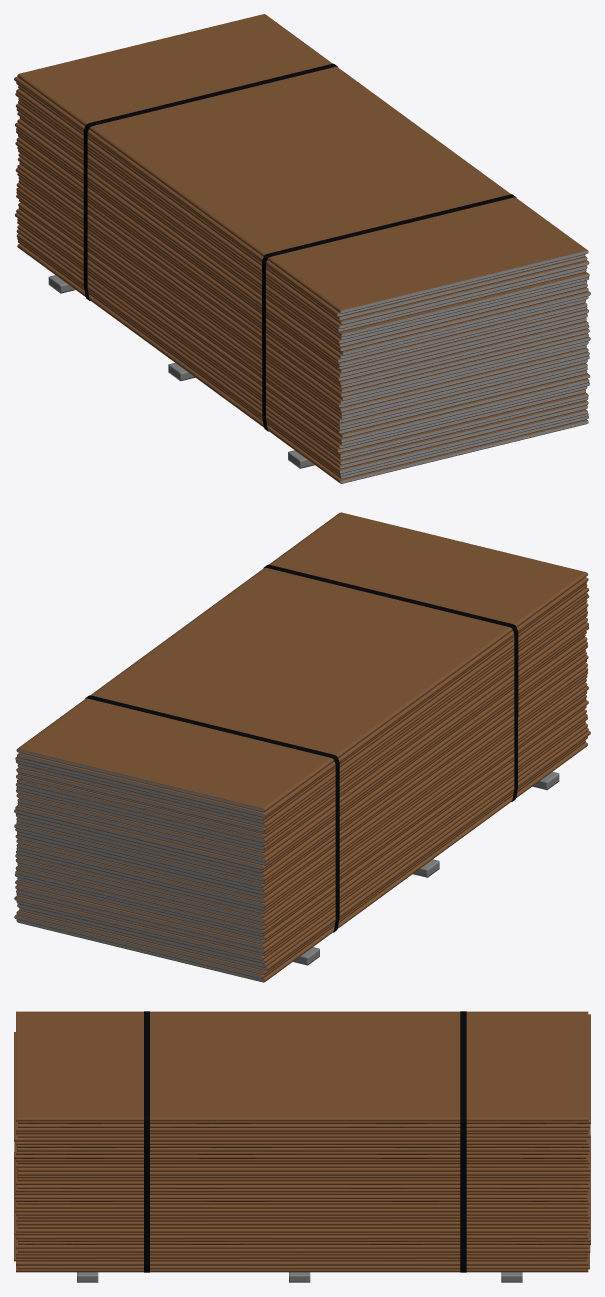
Rendered from DrywallOnPalletCarton.FBX.
The picture shows the model from 3 angles, top to bottom: view 1: azimuth 30°, elevation 25°; view 2: azimuth 150°, elevation 25°; view 3: azimuth 270°, elevation 25°; orthographic projection. The views are drawn at different scales.
Visible parts, largest first — view 1: DWall057, Rope12, DWall023, DWall12, DWall015, DWall017, DWall053, DWall040, DWall035, DWall027, DWall044, DWall049 (+36 smaller); view 2: DWall057, Rope12, DWall056, DWall044, DWall021, DWall045, DWall033, DWall049, DWall053, DWall028, DWall032, DWall040 (+36 smaller); view 3: DWall057, Rope12, DWall051, DWall042, DWall026, DWall013, DWall024, DWall014, DWall018, DWall030, DWall022, DWall031 (+36 smaller).
Part boxes in pixels (x1,y1,x2,y2): DWall057: [17, 14, 588, 313]; Rope12: [83, 63, 516, 431]; DWall023: [18, 202, 589, 442]; DWall12: [17, 244, 588, 483]; DWall015: [16, 233, 587, 473]; DWall017: [17, 225, 588, 464]; DWall053: [16, 89, 587, 328]; DWall040: [16, 137, 587, 377]; DWall035: [17, 157, 588, 397]; DWall027: [16, 187, 587, 427]; DWall044: [15, 122, 585, 362]; DWall049: [16, 103, 586, 343]; DWall057: [16, 512, 587, 812]; Rope12: [85, 564, 518, 932]; DWall056: [17, 577, 588, 817]; DWall044: [17, 622, 588, 862]; DWall021: [15, 709, 586, 949]; DWall045: [16, 617, 587, 857]; DWall033: [16, 663, 587, 902]; DWall049: [17, 603, 588, 843]; DWall053: [17, 587, 588, 827]; DWall028: [15, 682, 587, 922]; DWall032: [16, 667, 588, 907]; DWall040: [16, 637, 587, 876]; DWall057: [16, 1011, 588, 1121]; Rope12: [144, 1011, 466, 1272]; DWall051: [14, 1032, 586, 1141]; DWall042: [18, 1124, 590, 1171]; DWall026: [17, 1181, 589, 1225]; DWall013: [17, 1252, 589, 1269]; DWall024: [16, 1221, 588, 1232]; DWall014: [16, 1258, 588, 1265]; DWall018: [18, 1245, 590, 1252]; DWall030: [15, 1199, 587, 1212]; DWall022: [16, 1232, 588, 1239]; DWall031: [16, 1202, 588, 1208].
Bounding box in the file's own units: 373 × 251 × 809.
